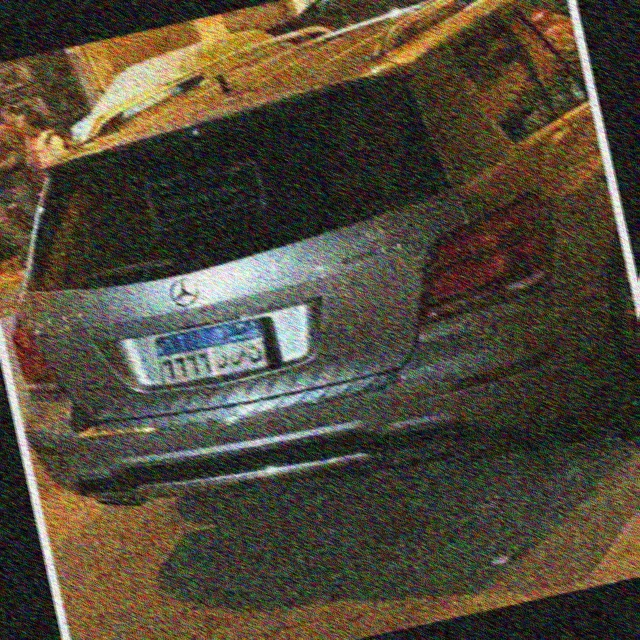License Plate: (151, 312, 275, 396)
